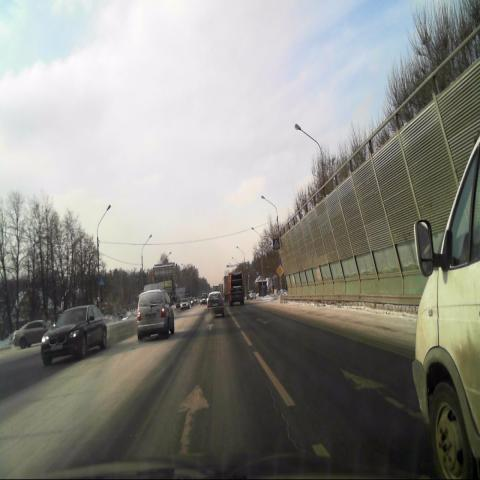2_1: (276, 264, 284, 277)
5_19_1: (272, 238, 280, 250)
